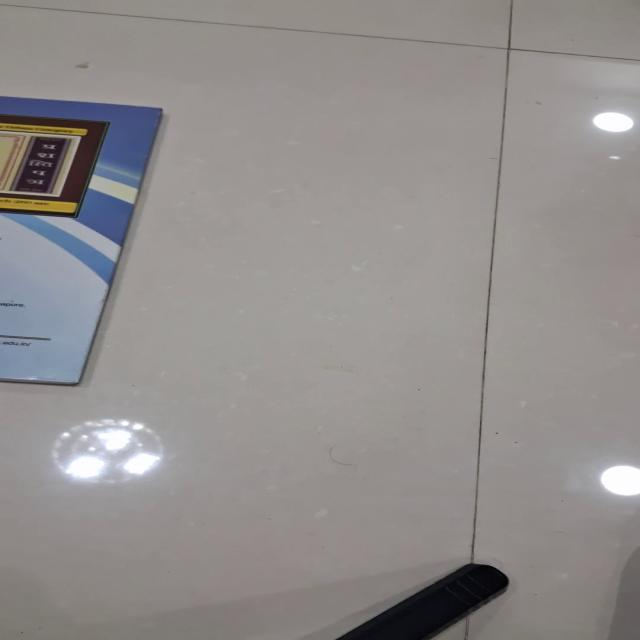paper: (1, 95, 163, 386)
